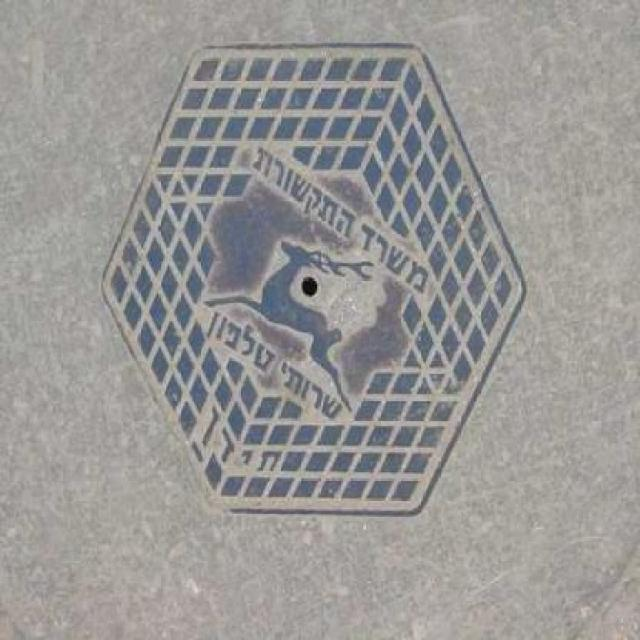Manhole: (71, 16, 536, 533)
